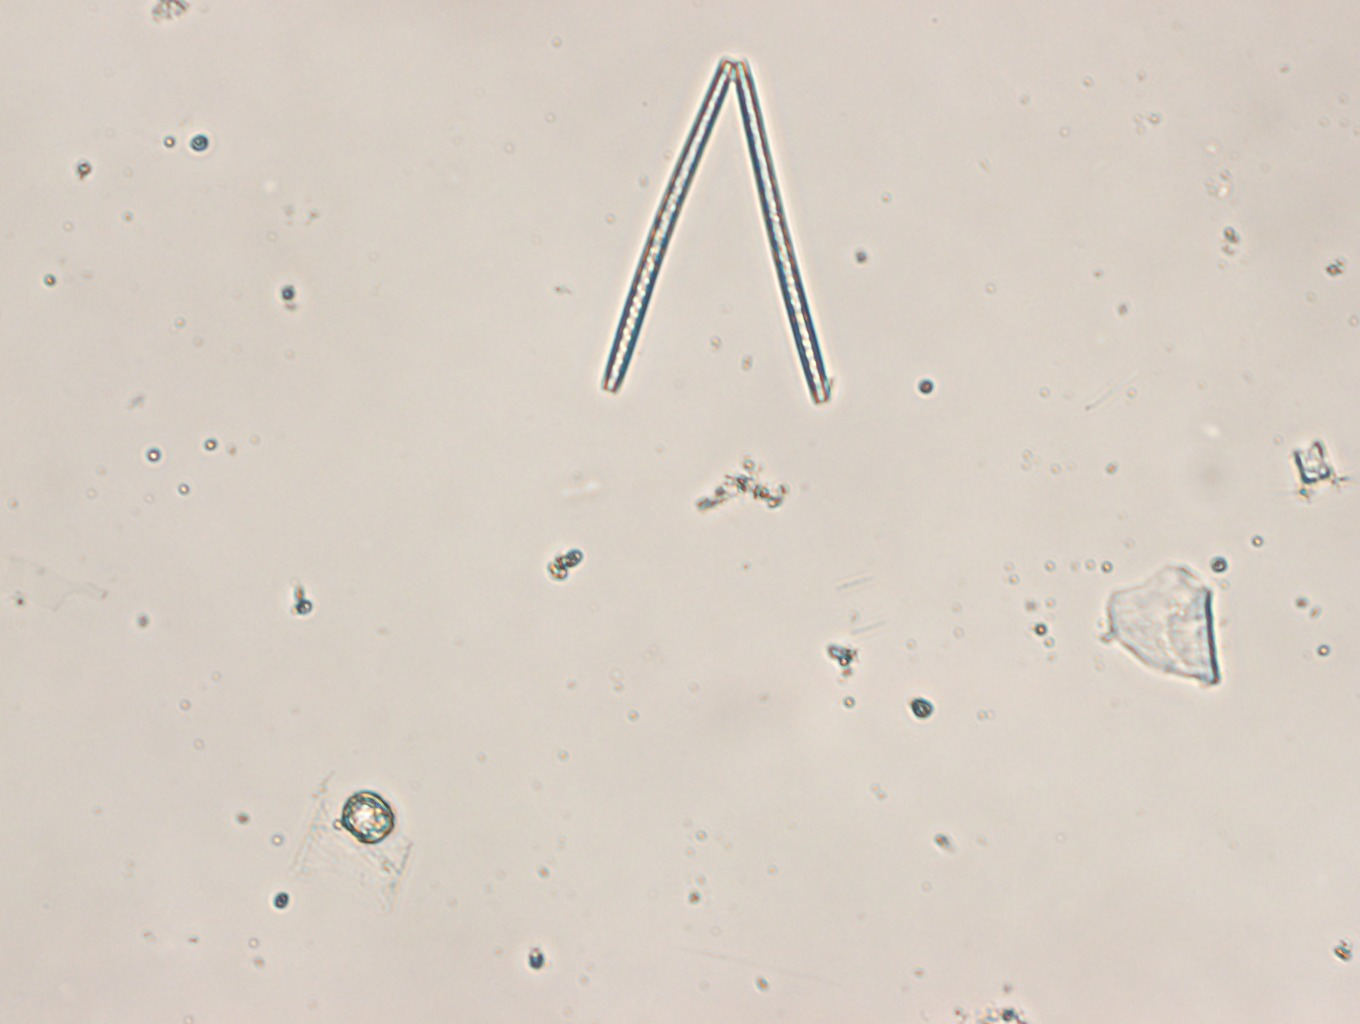thalassionema nitzschioides: (598, 56, 833, 403)
